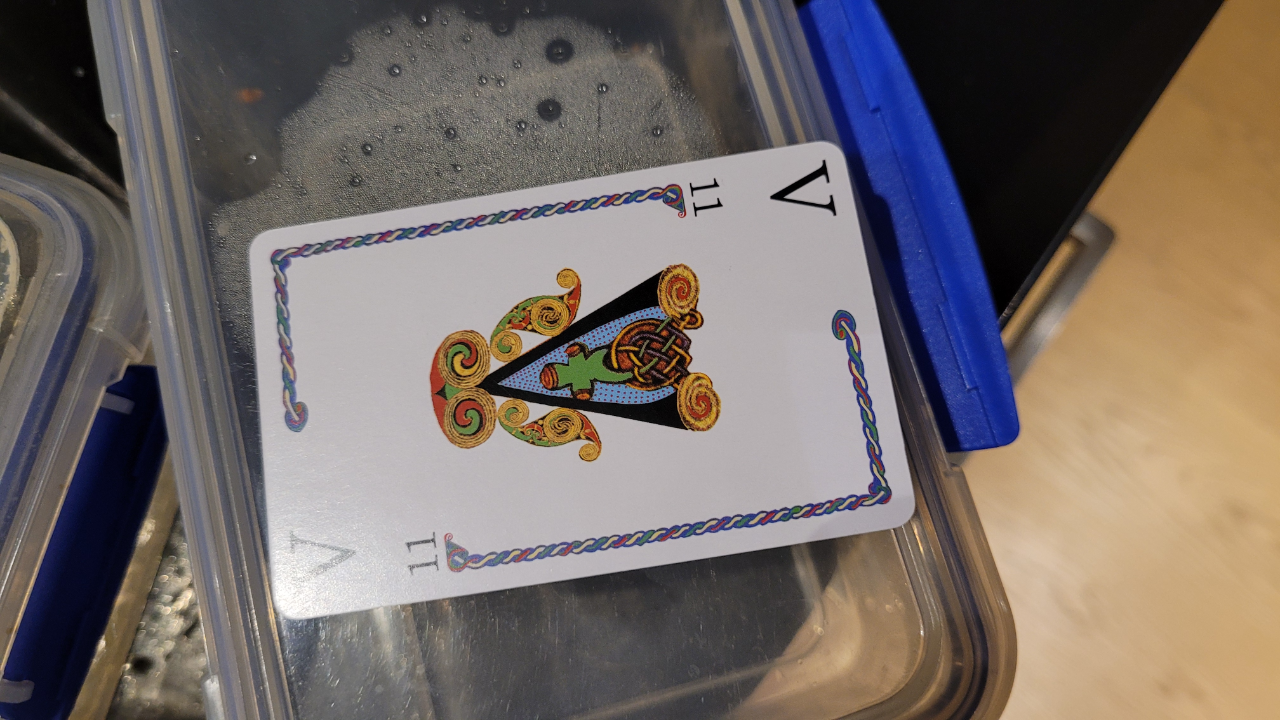quiddler_card: (238, 133, 935, 626)
